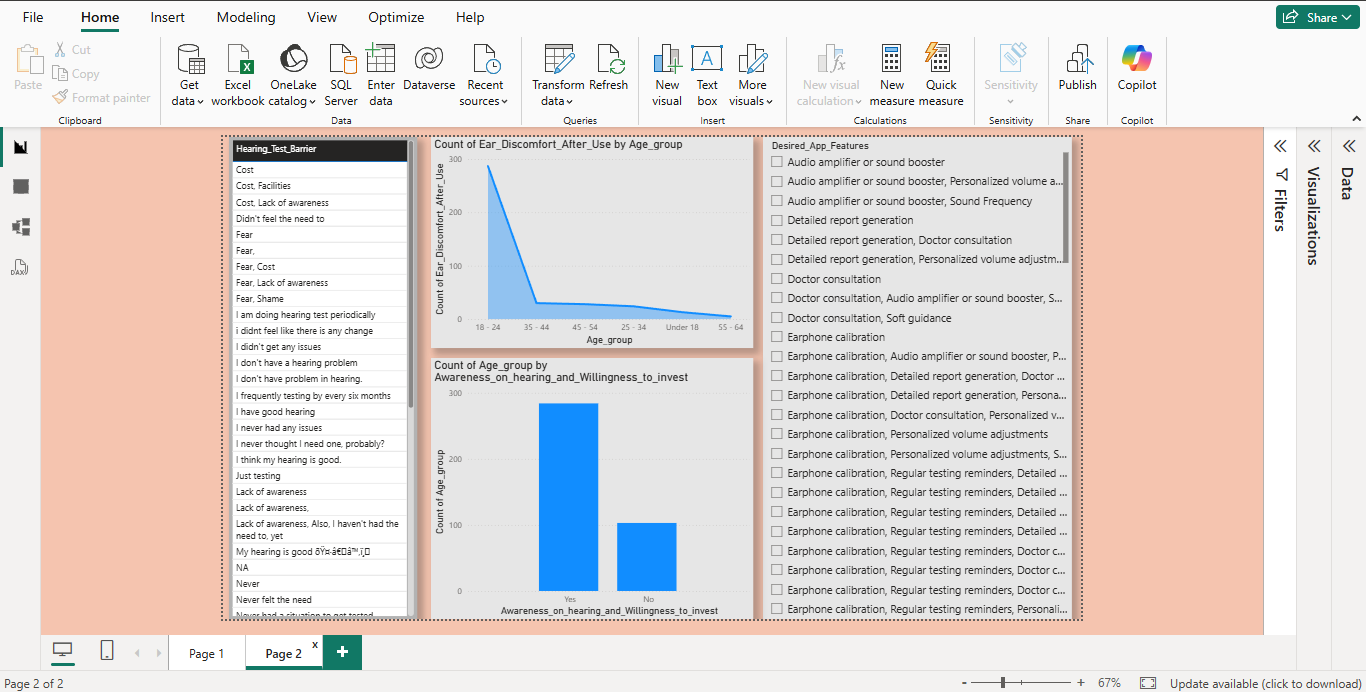

Layout of this report page (visuals, bound fields, positions):
{"tool":"powerbi","page":{"name":"Page 2","canvas":[1280,720],"ordinal":1},"visuals":[{"type":"tableEx","fields":{"Values":["Hearing well-being Survey Report.Hearing_Test_Barrier"]},"box":[9.3,0,281.5,720.4],"z":0},{"type":"areaChart","fields":{"Y":["CountNonNull(Hearing well-being Survey Report.Ear_Discomfort_After_Use)"],"Category":["Hearing well-being Survey Report.Age_group"]},"box":[311.1,0,481.5,314.8],"z":1000},{"type":"slicer","fields":{"Values":["Hearing well-being Survey Report.Desired_App_Features"]},"box":[805.6,0,461.1,720.4],"z":2000},{"type":"lineStackedColumnComboChart","fields":{"Category":["Hearing well-being Survey Report.Awareness_on_hearing_and_Willingness_to_invest"],"Y":["CountNonNull(Hearing well-being Survey Report.Age_group)"]},"box":[311.1,329.6,481.5,390.7],"z":3000}]}

Visuals, with their boxes on the page's 1280x720 design canvas (x1, y1, x2, y2). These are canvas units, not pixel positions in the 1366x692 screenshot, which may show the page scaled, cropped or inside an application window:
tableEx - Hearing well-being Survey Report.Hearing_Test_Barrier: 9/0/291/720
areaChart - CountNonNull(Hearing well-being Survey Report.Ear_Discomfort_After_Use) x Hearing well-being Survey Report.Age_group: 311/0/793/315
slicer - Hearing well-being Survey Report.Desired_App_Features: 806/0/1267/720
lineStackedColumnComboChart - Hearing well-being Survey Report.Awareness_on_hearing_and_Willingness_to_invest x CountNonNull(Hearing well-being Survey Report.Age_group): 311/330/793/720
